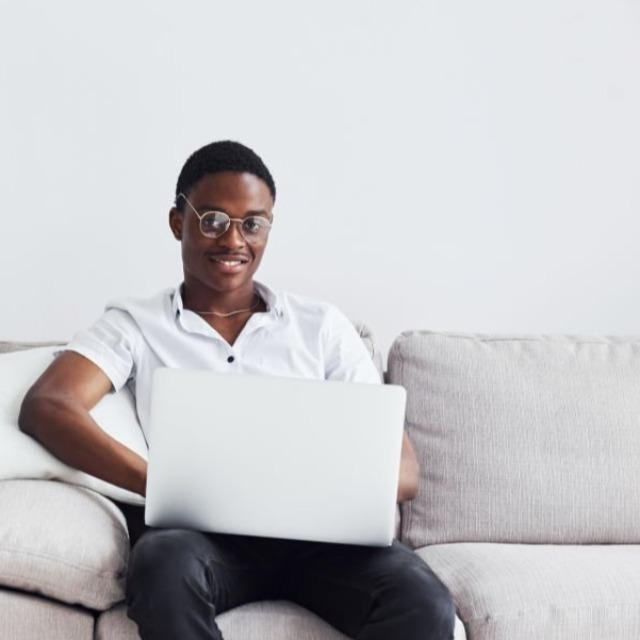Sin_Casco_Mascarrilla: (169, 138, 281, 287)
